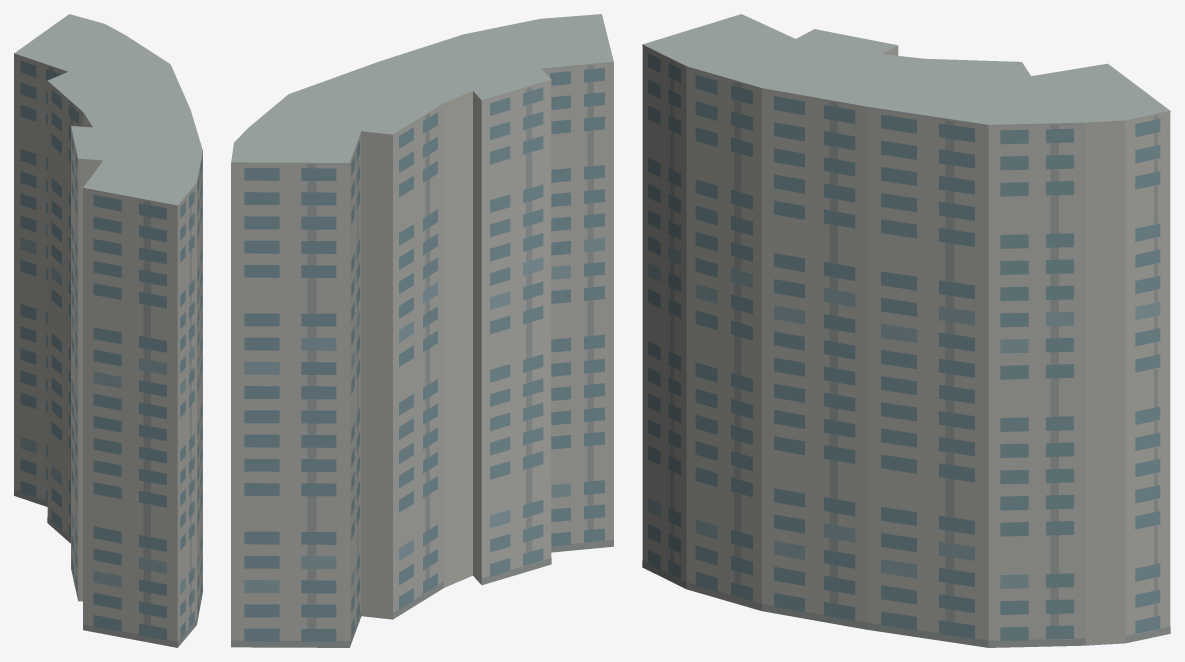
File: residential-f2b16d4b-e8ee-4441-b9cb-6e1d22bf4be7.glb
3 renders of one model, left to right at view 1: azimuth 30°, elevation 25°; view 2: azimuth 150°, elevation 25°; view 3: azimuth 270°, elevation 25°, orthographic. The views are drawn at different scales.
Visible parts, largest first — view 1: residential-f2b16d4b-e8ee-4441-b9cb-6e1d22bf4be7.tmp; view 2: residential-f2b16d4b-e8ee-4441-b9cb-6e1d22bf4be7.tmp; view 3: residential-f2b16d4b-e8ee-4441-b9cb-6e1d22bf4be7.tmp.
Part boxes in pixels (x1,y1,x2,y2): residential-f2b16d4b-e8ee-4441-b9cb-6e1d22bf4be7.tmp: (14, 14, 202, 647); residential-f2b16d4b-e8ee-4441-b9cb-6e1d22bf4be7.tmp: (231, 14, 613, 647); residential-f2b16d4b-e8ee-4441-b9cb-6e1d22bf4be7.tmp: (642, 14, 1170, 647).
Bounding box in the file's own units: 33.2 × 73 × 66.79.
